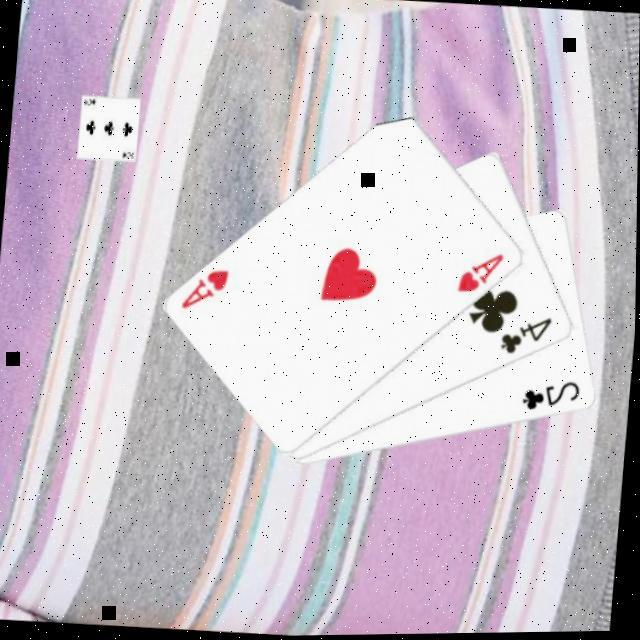2C: (520, 374, 584, 416)
4C: (496, 310, 556, 360)
AH: (178, 262, 233, 314), (454, 246, 508, 298)
